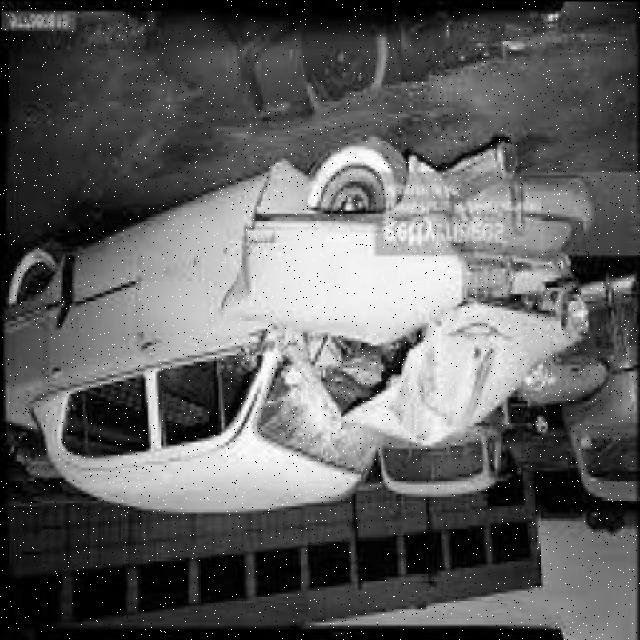damage: (228, 158, 594, 478)
